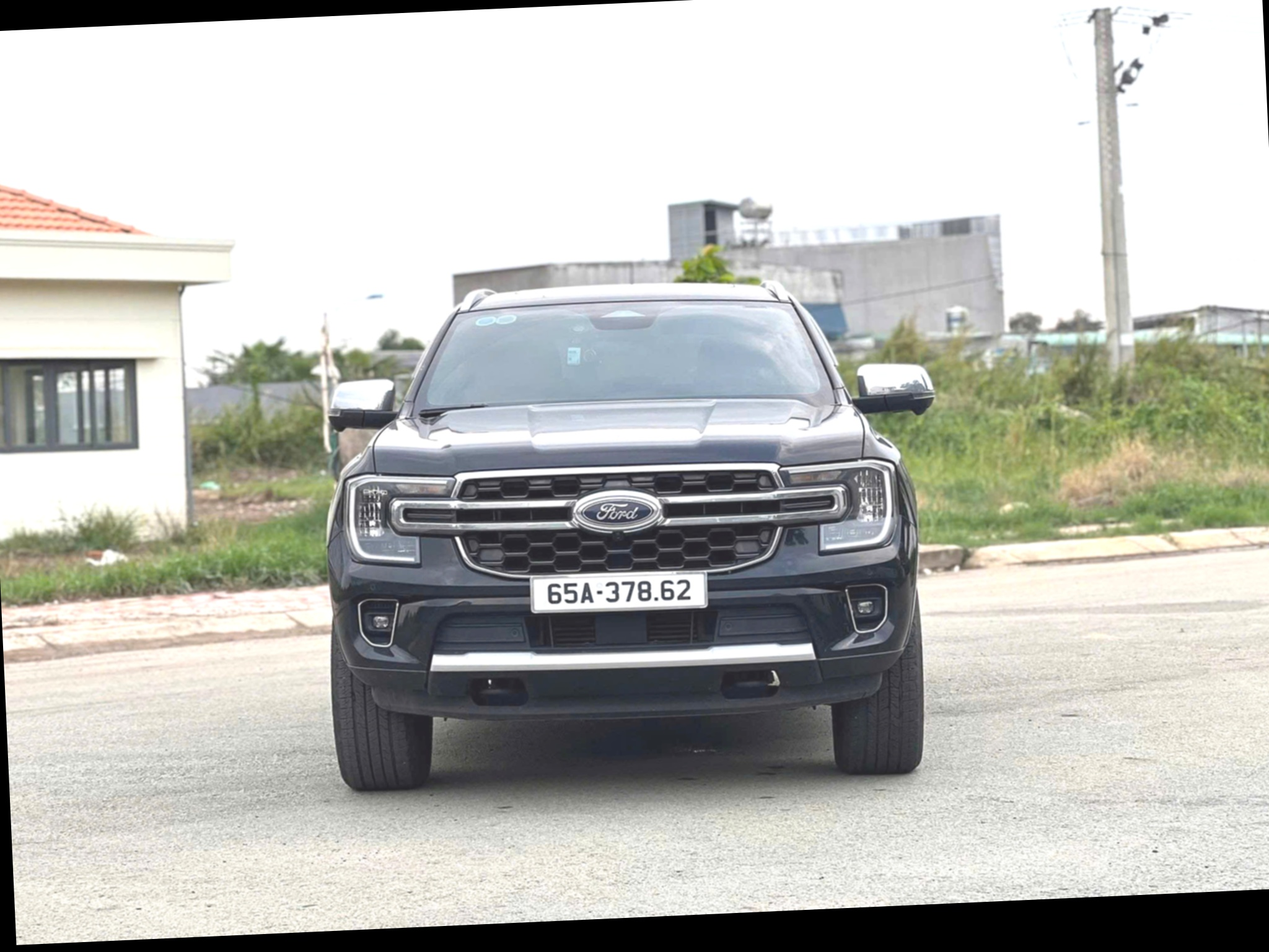Bien-so: (505, 604, 680, 655)
